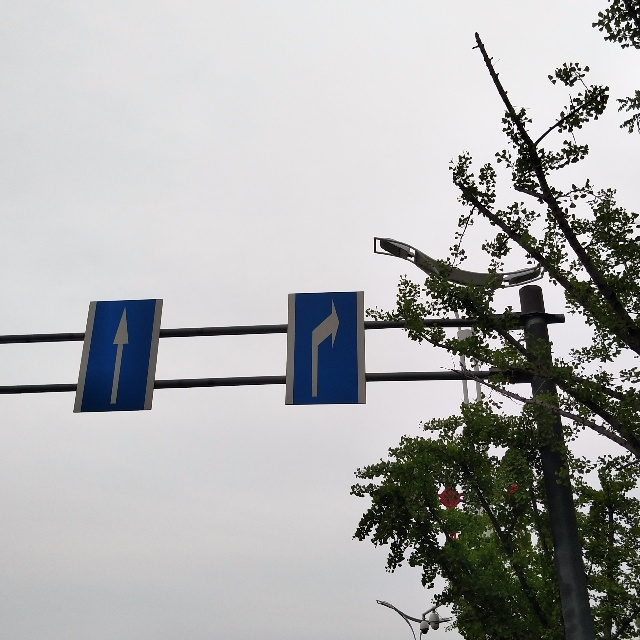right: (294, 290, 351, 398)
straight: (93, 289, 145, 408)
